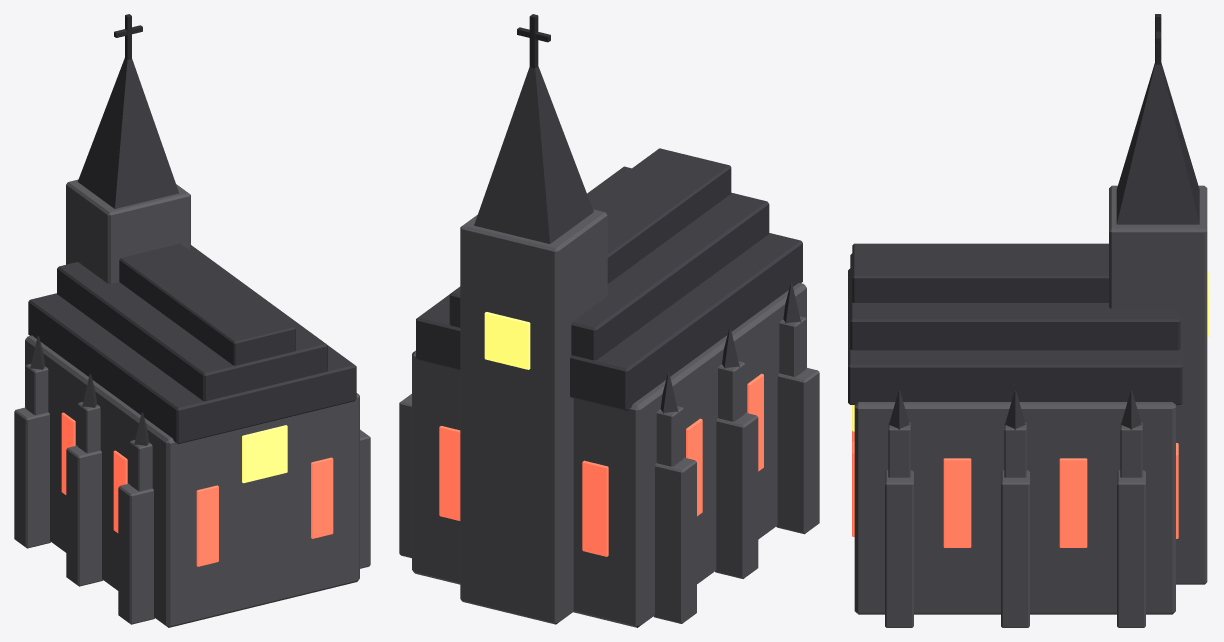
Rendered from route77_gothic_chapel.glb.
The picture shows the model from 3 angles, left to right: view 1: azimuth 30°, elevation 25°; view 2: azimuth 150°, elevation 25°; view 3: azimuth 270°, elevation 25°; orthographic projection. The views are drawn at different scales.
Parts seen in each view (by area): view 1: Chapel nave, Roof lower tier, Roof mid tier, Roof ridge tier, Bell tower spire, Bell tower shaft, Nave buttress lower, Nave buttress lower.001, Nave buttress lower.002, Rear rose window, Rear lancet window, Rear lancet window.001 (+6 smaller); view 2: Bell tower shaft, Chapel nave, Roof lower tier, Roof mid tier, Bell tower spire, Roof ridge tier, Nave buttress lower.001, Nave buttress lower, Nave buttress lower.002, Facade lancet window, Front rose window, Nave buttress lower.005 (+6 smaller); view 3: Chapel nave, Roof lower tier, Bell tower shaft, Roof mid tier, Roof ridge tier, Bell tower spire, Nave buttress lower.003, Nave buttress lower.004, Nave buttress lower.005, Side lancet window.002, Side lancet window.003, Nave buttress upper.003 (+2 smaller).
Boxes of the visible parts, x1,y1,x2,y2 form: Chapel nave: [25, 335, 359, 627]; Roof lower tier: [28, 293, 356, 444]; Roof mid tier: [57, 245, 327, 401]; Roof ridge tier: [119, 243, 295, 365]; Bell tower spire: [77, 58, 178, 208]; Bell tower shaft: [66, 179, 190, 283]; Nave buttress lower: [118, 483, 154, 624]; Nave buttress lower.001: [66, 445, 102, 586]; Nave buttress lower.002: [14, 407, 50, 548]; Rear rose window: [242, 425, 287, 483]; Rear lancet window: [196, 485, 218, 566]; Rear lancet window.001: [311, 457, 333, 538]; Bell tower shaft: [460, 209, 607, 624]; Chapel nave: [412, 283, 806, 627]; Roof lower tier: [416, 233, 802, 410]; Roof mid tier: [449, 166, 769, 360]; Bell tower spire: [474, 66, 593, 243]; Roof ridge tier: [589, 148, 731, 283]; Nave buttress lower.001: [715, 412, 758, 578]; Nave buttress lower: [776, 367, 819, 534]; Nave buttress lower.002: [653, 457, 696, 623]; Facade lancet window: [582, 460, 608, 556]; Front rose window: [484, 312, 530, 369]; Nave buttress lower.005: [399, 394, 411, 558]; Chapel nave: [854, 402, 1175, 614]; Roof lower tier: [848, 268, 1182, 404]; Bell tower shaft: [1109, 185, 1207, 584]; Roof mid tier: [850, 253, 1180, 350]; Roof ridge tier: [852, 243, 1108, 302]; Bell tower spire: [1116, 63, 1199, 224]; Nave buttress lower.003: [885, 470, 913, 627]; Nave buttress lower.004: [1001, 470, 1029, 627]; Nave buttress lower.005: [1117, 470, 1145, 627]; Side lancet window.002: [943, 458, 971, 547]; Side lancet window.003: [1059, 458, 1087, 547]; Nave buttress upper.003: [888, 422, 910, 477].
Size of the model in its own units: 6.95 by 13.55 by 8.11.
